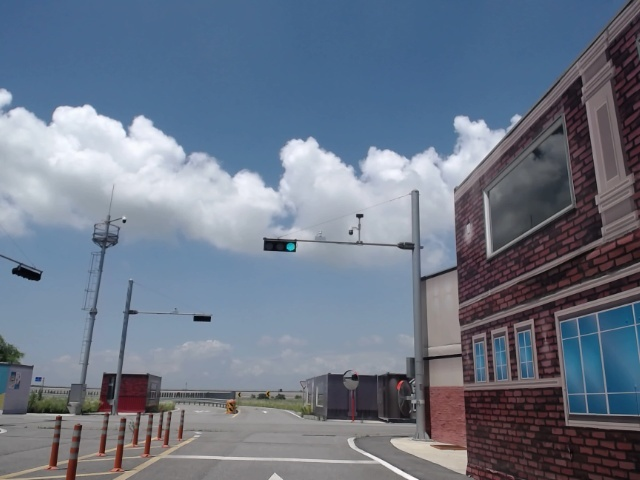green_3: (264, 241, 296, 251)
